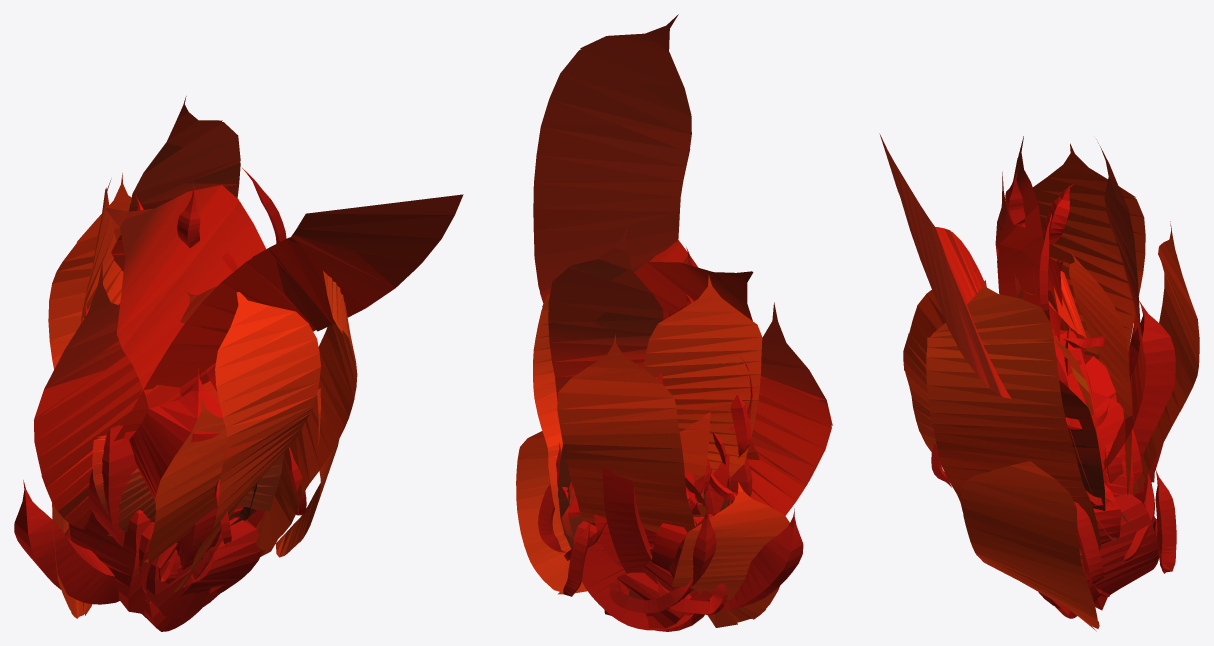
Rendered from fire_01_quill.fbx.
The picture shows the model from 3 angles, left to right: view 1: azimuth 30°, elevation 25°; view 2: azimuth 150°, elevation 25°; view 3: azimuth 270°, elevation 25°; orthographic projection. The views are drawn at different scales.
Visible parts, largest first — view 1: NewLayer3; view 2: NewLayer3; view 3: NewLayer3.
Part boxes in pixels (x1=…): NewLayer3: x1=14, y1=96, x2=463, y2=631; NewLayer3: x1=516, y1=14, x2=832, y2=631; NewLayer3: x1=879, y1=133, x2=1199, y2=631.
Bounding box in the file's own units: 1.29 × 2.01 × 0.9683.
